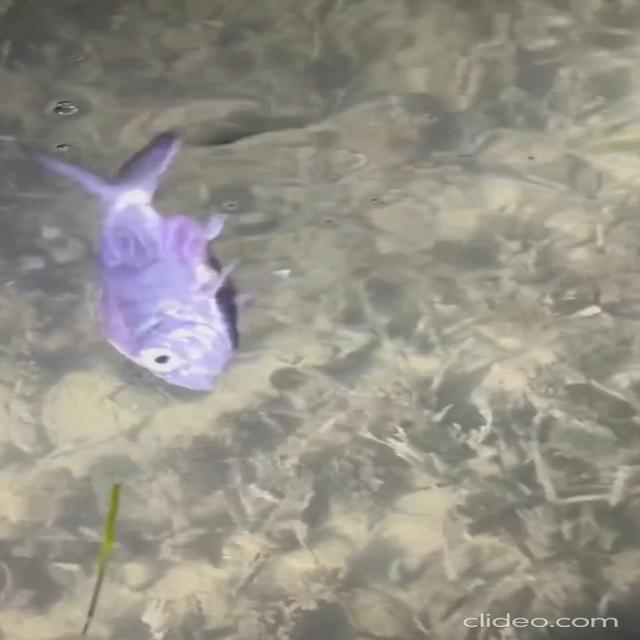fish: (11, 127, 271, 403)
